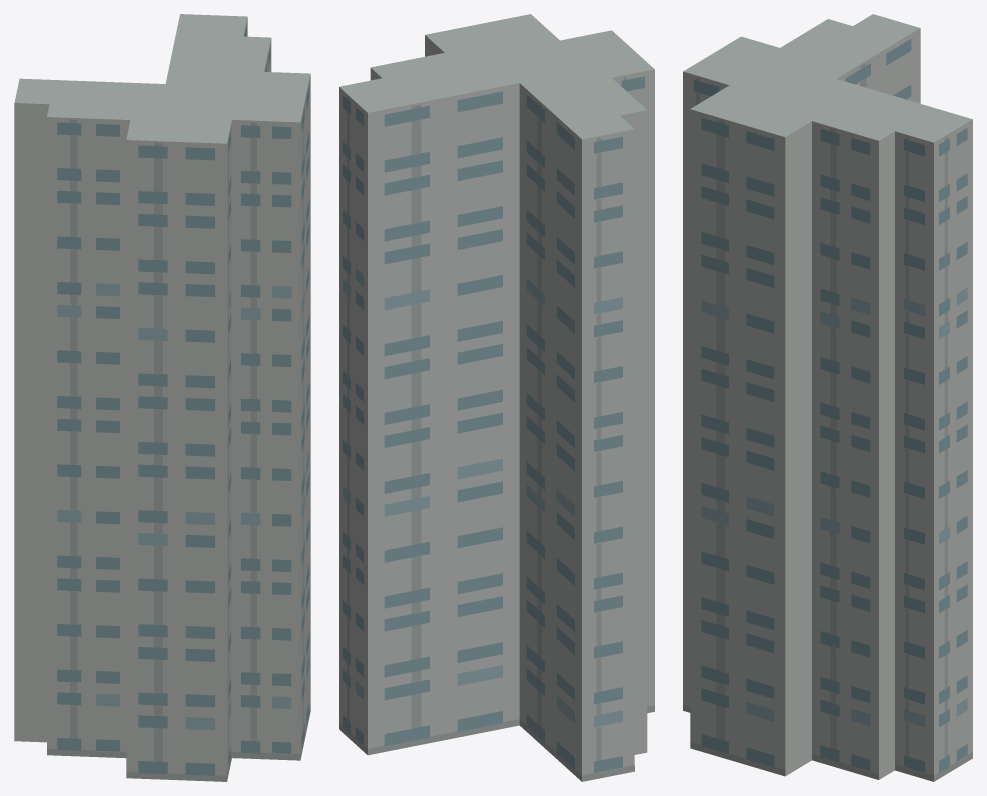
File: residential-621ad685-27c1-451b-9351-b21e8dee28f7.glb
The picture shows the model from 3 angles, left to right: view 1: azimuth 30°, elevation 25°; view 2: azimuth 150°, elevation 25°; view 3: azimuth 270°, elevation 25°; orthographic projection.
Visible parts, largest first — view 1: residential-621ad685-27c1-451b-9351-b21e8dee28f7.tmp; view 2: residential-621ad685-27c1-451b-9351-b21e8dee28f7.tmp; view 3: residential-621ad685-27c1-451b-9351-b21e8dee28f7.tmp.
Boxes of the visible parts, x1,y1,x2,y2 form: residential-621ad685-27c1-451b-9351-b21e8dee28f7.tmp: (14, 14, 310, 781); residential-621ad685-27c1-451b-9351-b21e8dee28f7.tmp: (339, 14, 654, 781); residential-621ad685-27c1-451b-9351-b21e8dee28f7.tmp: (683, 14, 972, 781).
Size of the model in its own units: 34.56 by 80 by 32.87.
